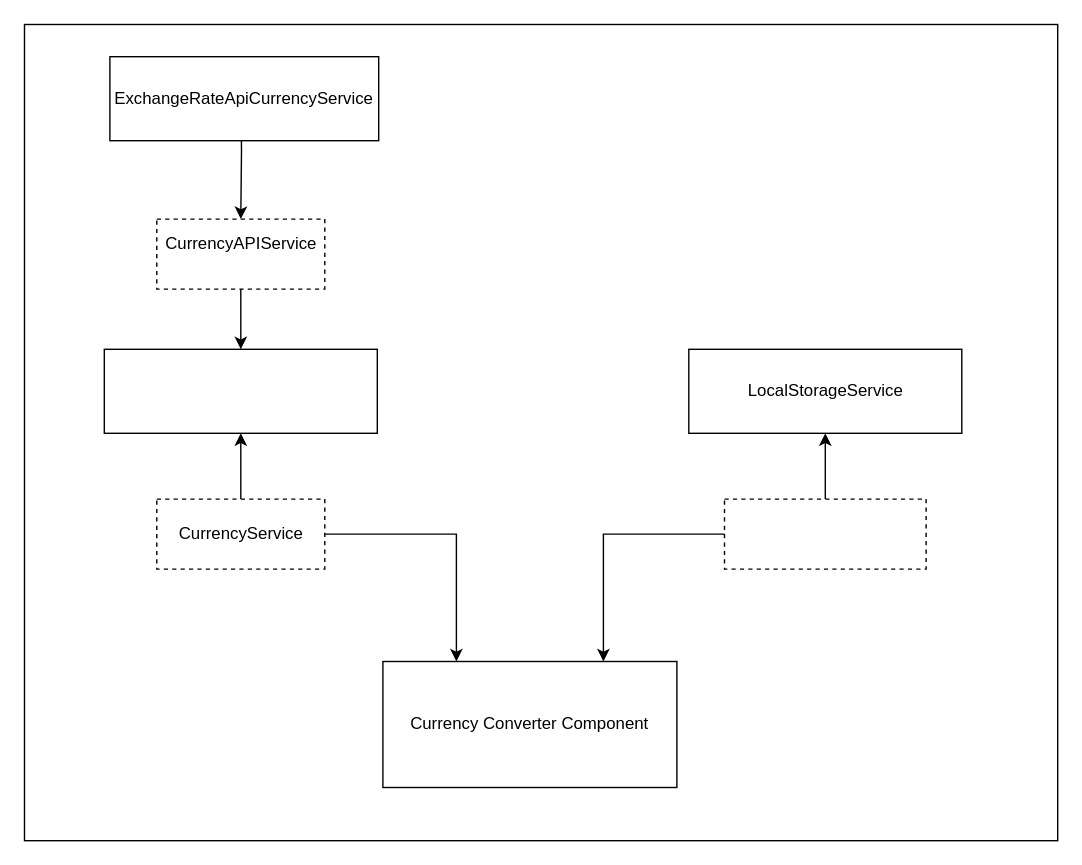
Some shapes in this 1082 by 865 pixel diagram are drawn without their labels. The centre of each missing label's shape, as x and y in pixels:
CurrencyAdapterService: point 240,390
PersistCurrenciesService: point 824,533
